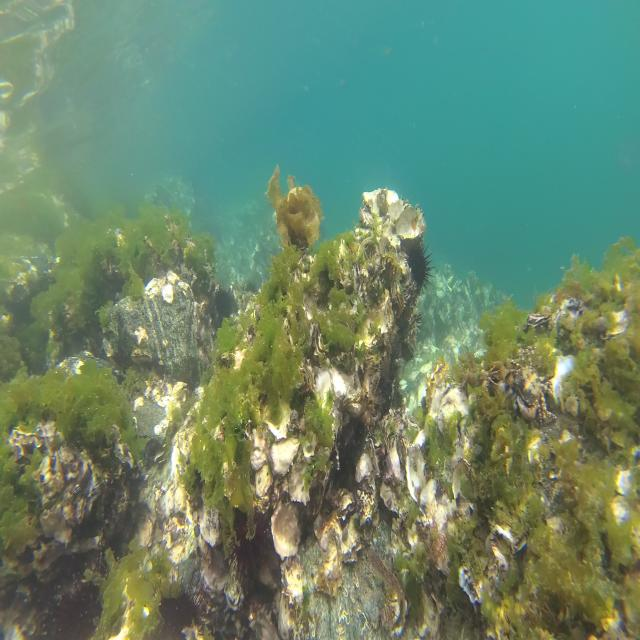echinus: (150, 568, 208, 640), (400, 227, 434, 298), (211, 283, 237, 328), (229, 526, 254, 567), (244, 277, 258, 305)
